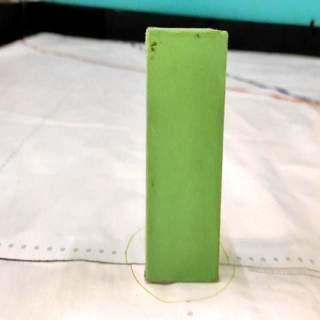greenbox: (146, 27, 226, 284)
